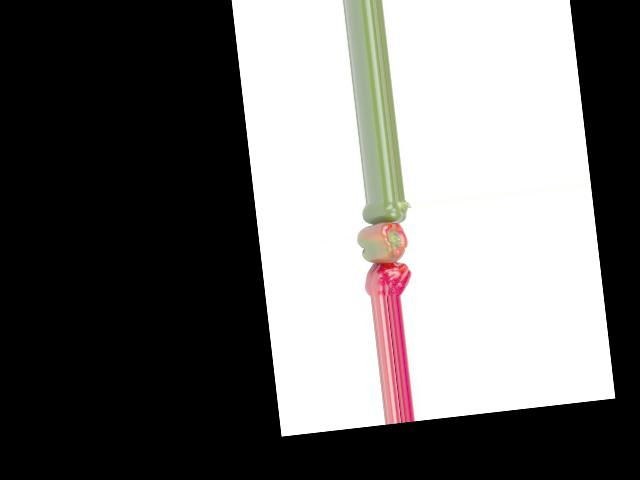bell_pepper: (359, 258, 417, 299)
